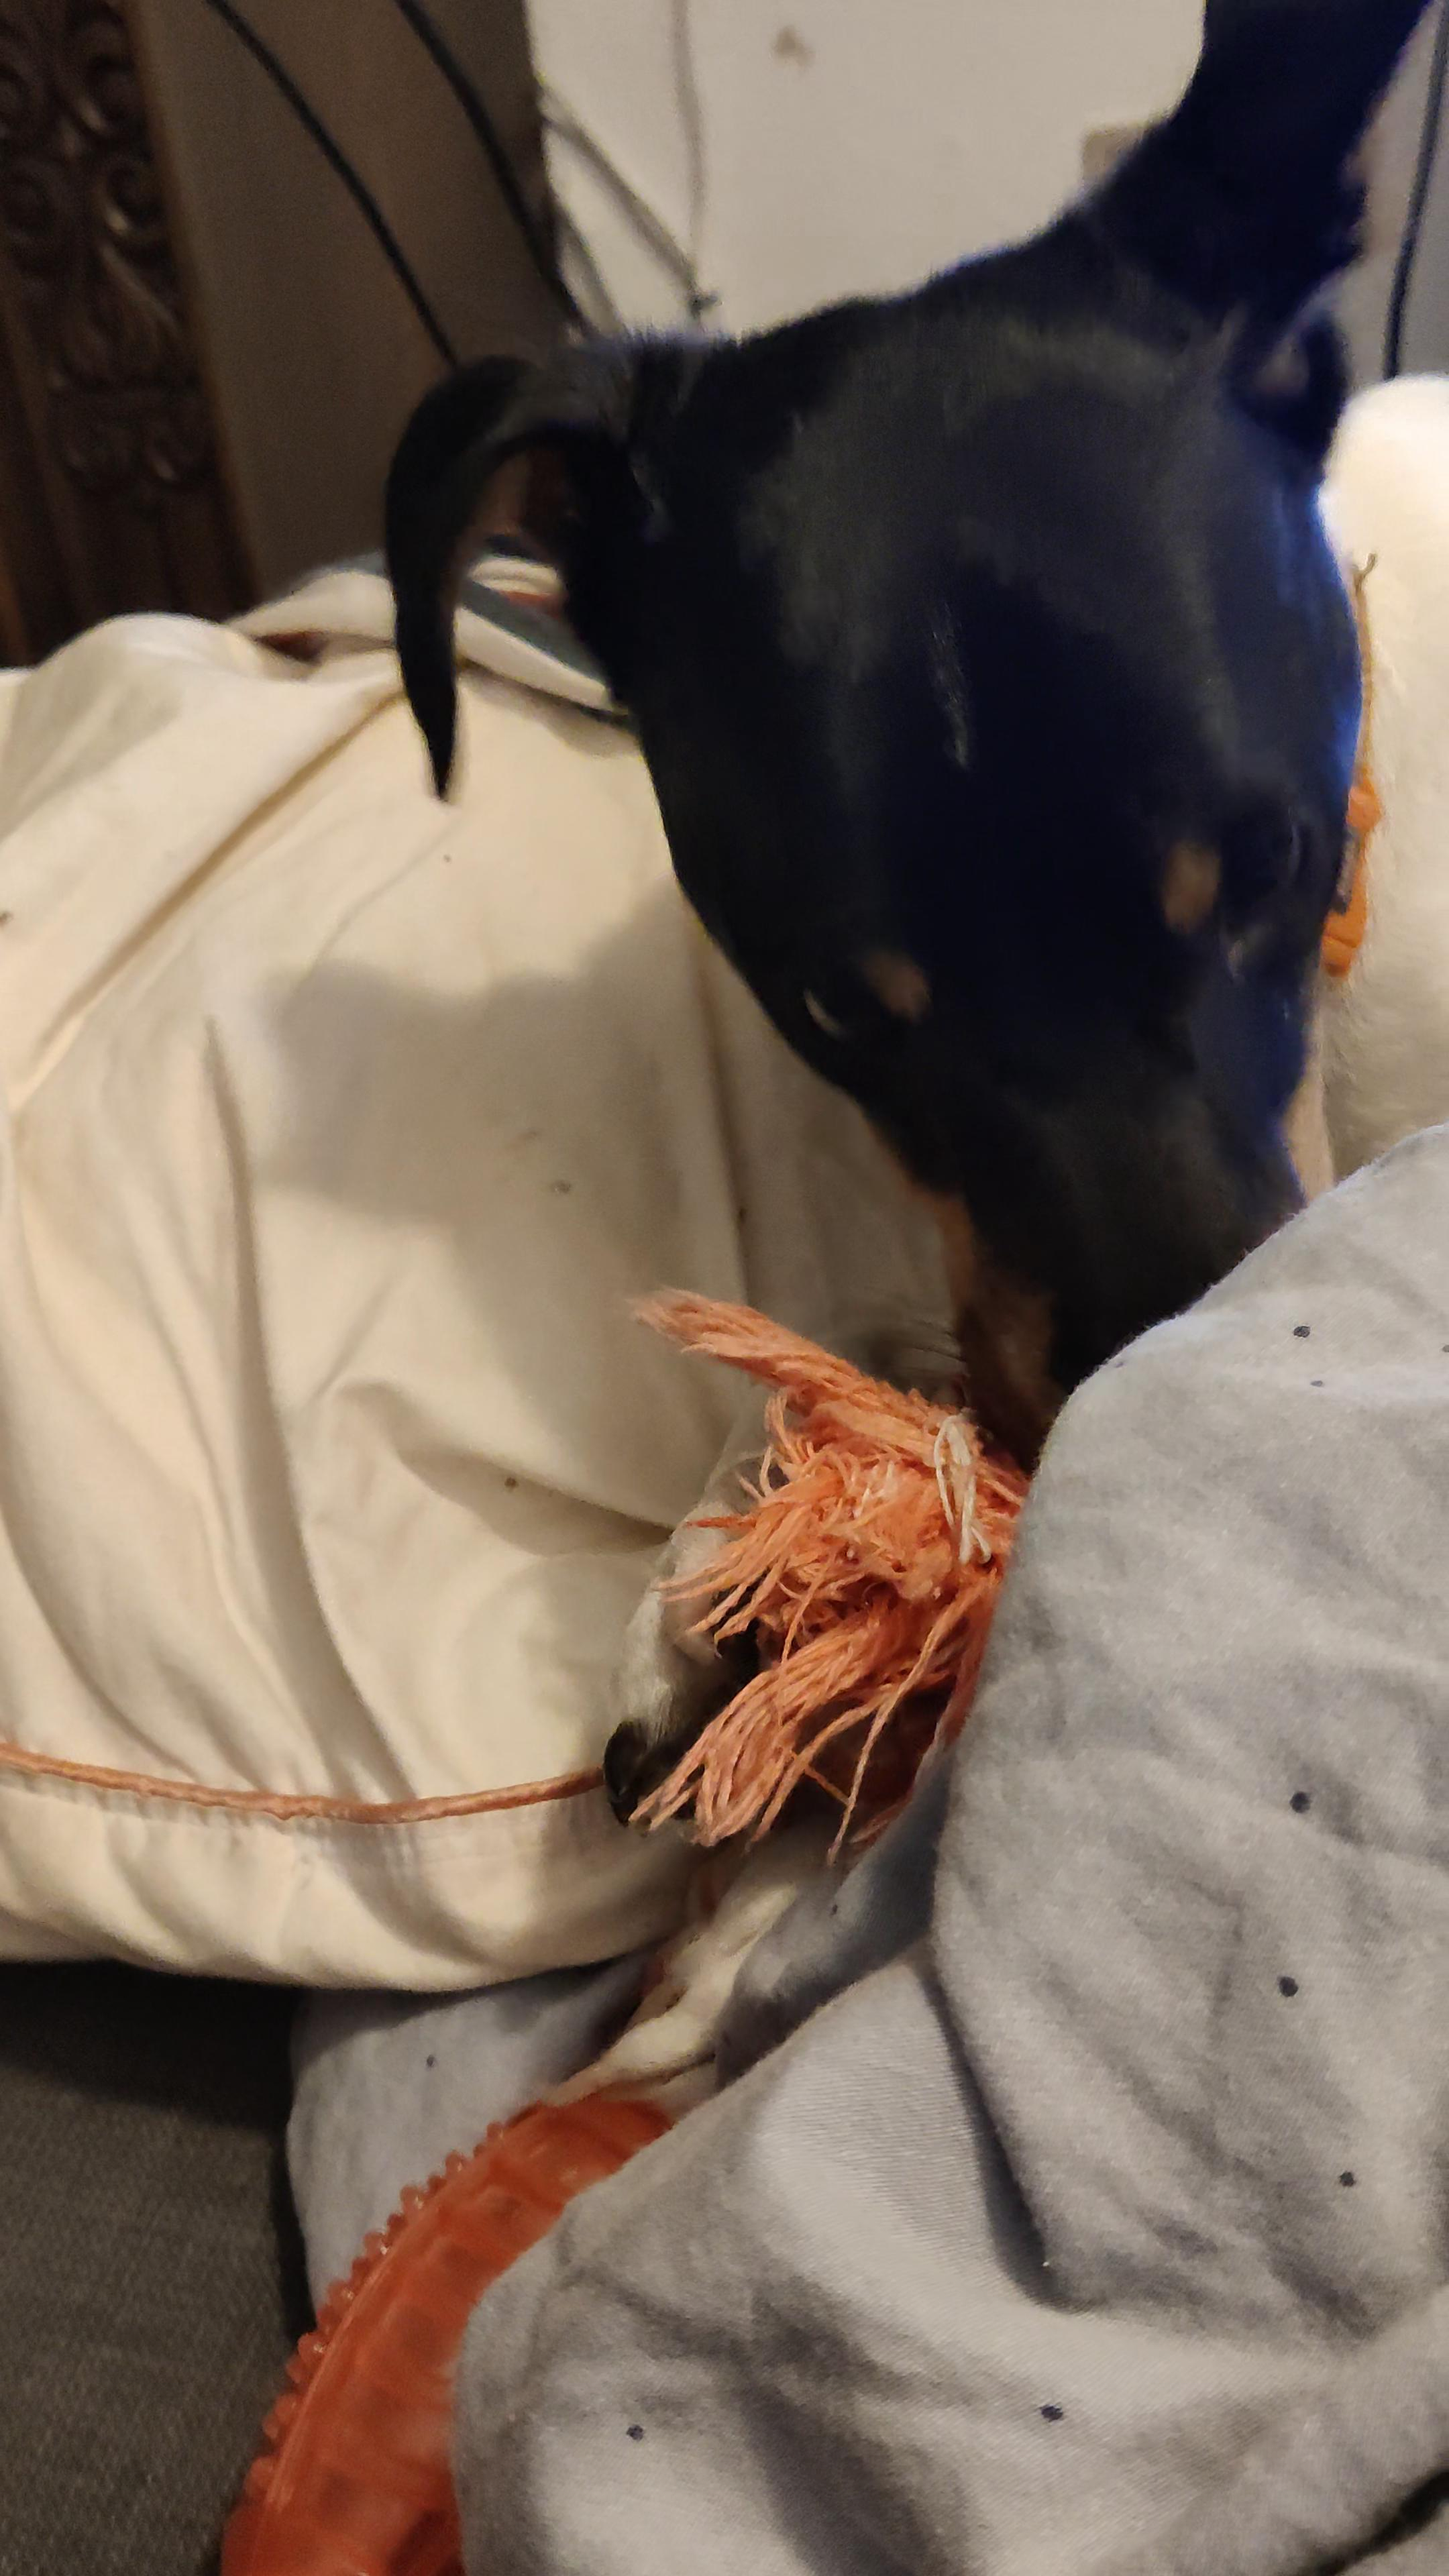Dog: (366, 0, 1449, 2135)
